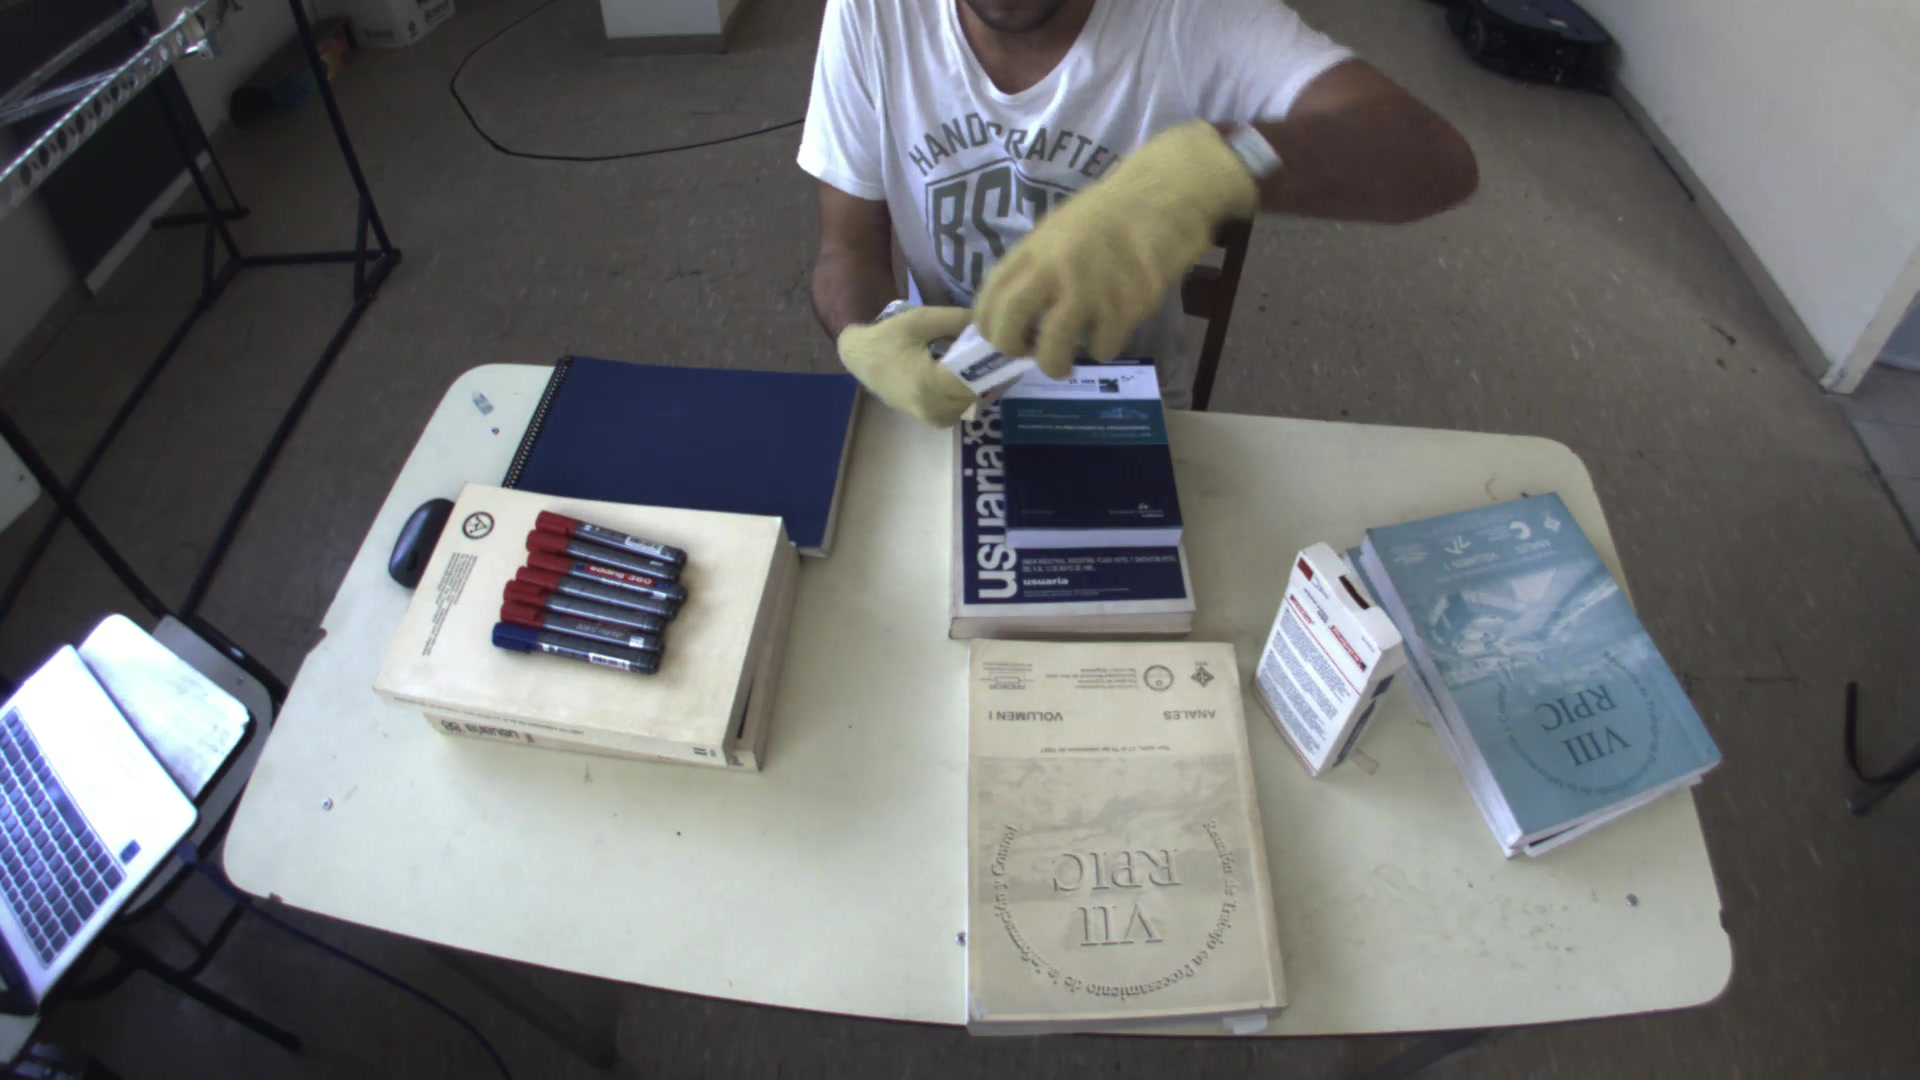hand: (953, 107, 1283, 373), (828, 294, 989, 433)
